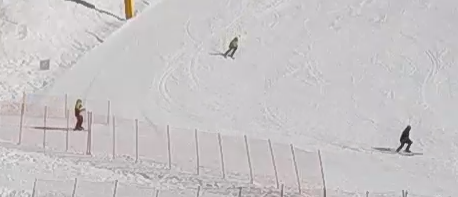skier: (377, 116, 433, 167), (56, 92, 110, 137), (215, 25, 250, 69)
